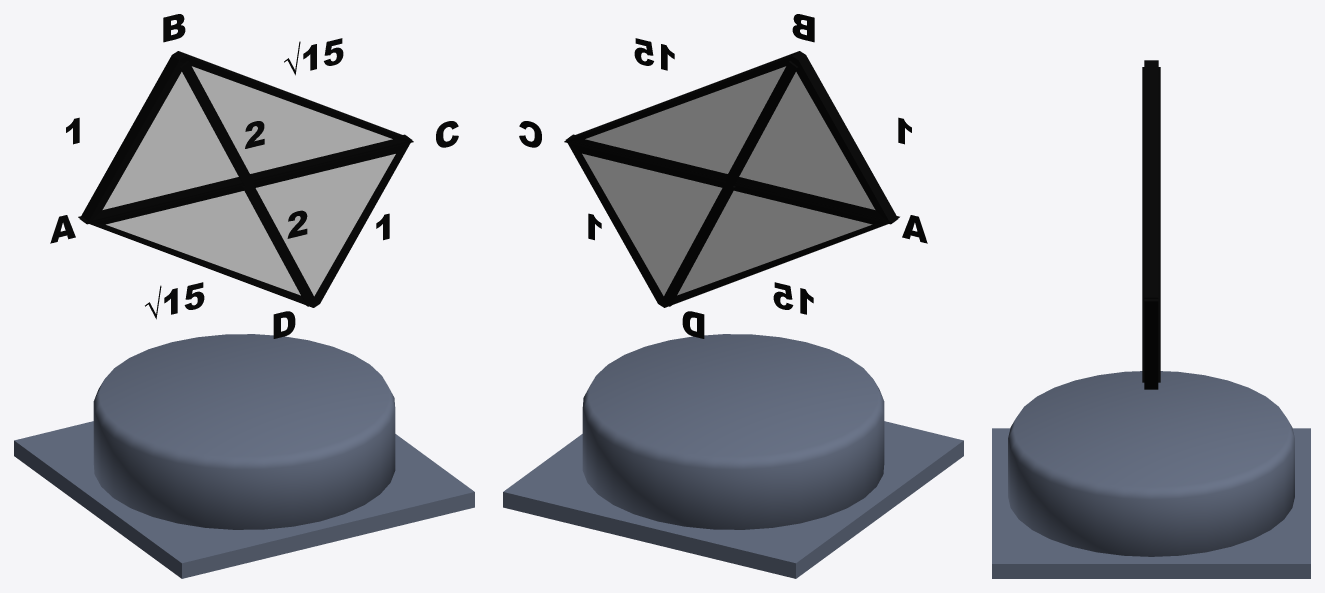
3 views of the same model, side by side, from view 1: azimuth 30°, elevation 25°; view 2: azimuth 150°, elevation 25°; view 3: azimuth 270°, elevation 25° (orthographic). The views are drawn at different scales.
Parts seen in each view (by area): view 1: Cylinder, Cube.001, Cube.004, Cube, Cube.002, Cube.003, Text.009, Text.003; view 2: Cylinder, Cube.001, Cube.004, Cube, Cube.002, Cube.003, Text.009, Text.003; view 3: Cylinder, Cube, Cube.001, Cube.004, Cube.002, Cube.003.
Boxes of the visible parts, x1,y1,x2,y2 form: Cylinder: [93, 334, 395, 529]; Cube.001: [80, 51, 413, 224]; Cube.004: [78, 134, 411, 307]; Cube: [14, 421, 474, 578]; Cube.002: [179, 61, 253, 186]; Cube.003: [242, 182, 316, 306]; Text.009: [145, 282, 204, 319]; Text.003: [284, 38, 343, 75]; Cylinder: [582, 334, 884, 529]; Cube.001: [564, 51, 897, 224]; Cube.004: [566, 134, 899, 307]; Cube: [503, 421, 963, 578]; Cube.002: [724, 61, 798, 186]; Cube.003: [661, 182, 735, 306]; Text.009: [773, 282, 813, 314]; Text.003: [634, 38, 674, 70]; Cylinder: [1008, 371, 1294, 556]; Cube: [992, 428, 1310, 578]; Cube.001: [1144, 60, 1158, 301]; Cube.004: [1144, 297, 1158, 389]; Cube.002: [1142, 67, 1160, 224]; Cube.003: [1142, 225, 1160, 382].
Size of the model in its own units: 12.77 by 14.45 by 9.09.
